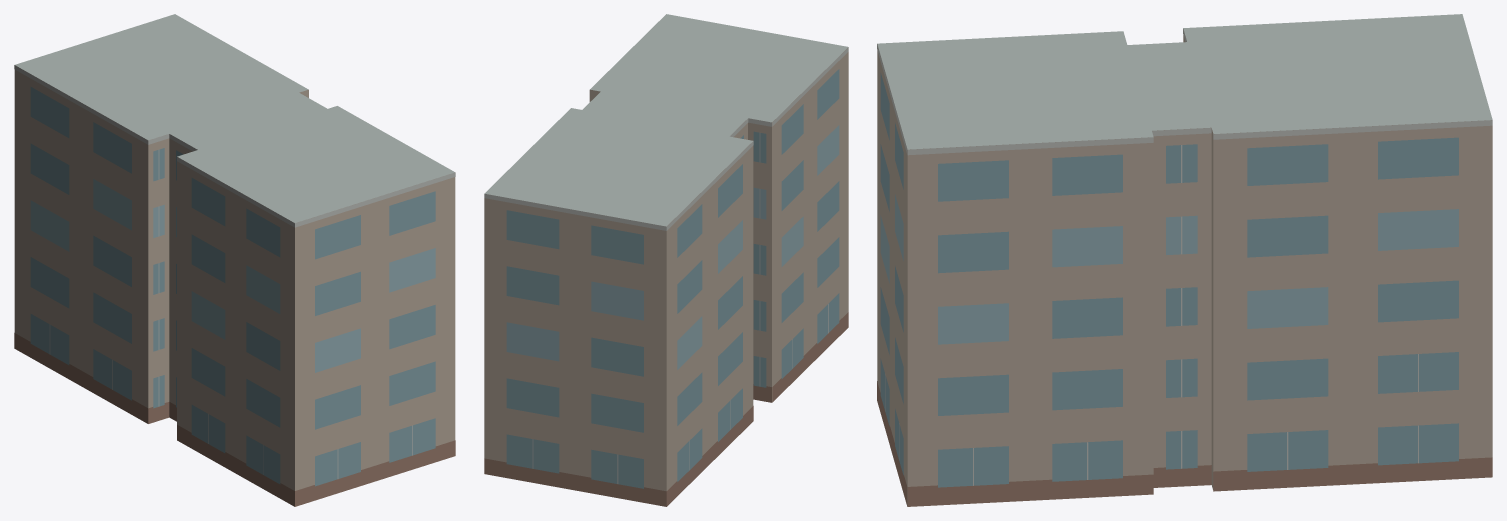
File: survey-upis-32617623.glb
3 renders of one model, left to right at view 1: azimuth 30°, elevation 25°; view 2: azimuth 150°, elevation 25°; view 3: azimuth 270°, elevation 25°, orthographic. The views are drawn at different scales.
Visible parts, largest first — view 1: survey-upis-32617623.tmp; view 2: survey-upis-32617623.tmp; view 3: survey-upis-32617623.tmp.
Part boxes in pixels (box(x1,y1,x2,y2)): survey-upis-32617623.tmp: box(14, 14, 455, 506); survey-upis-32617623.tmp: box(484, 14, 848, 506); survey-upis-32617623.tmp: box(877, 14, 1492, 506).
Bounding box in the file's own units: 12.57 × 15.43 × 24.1.
